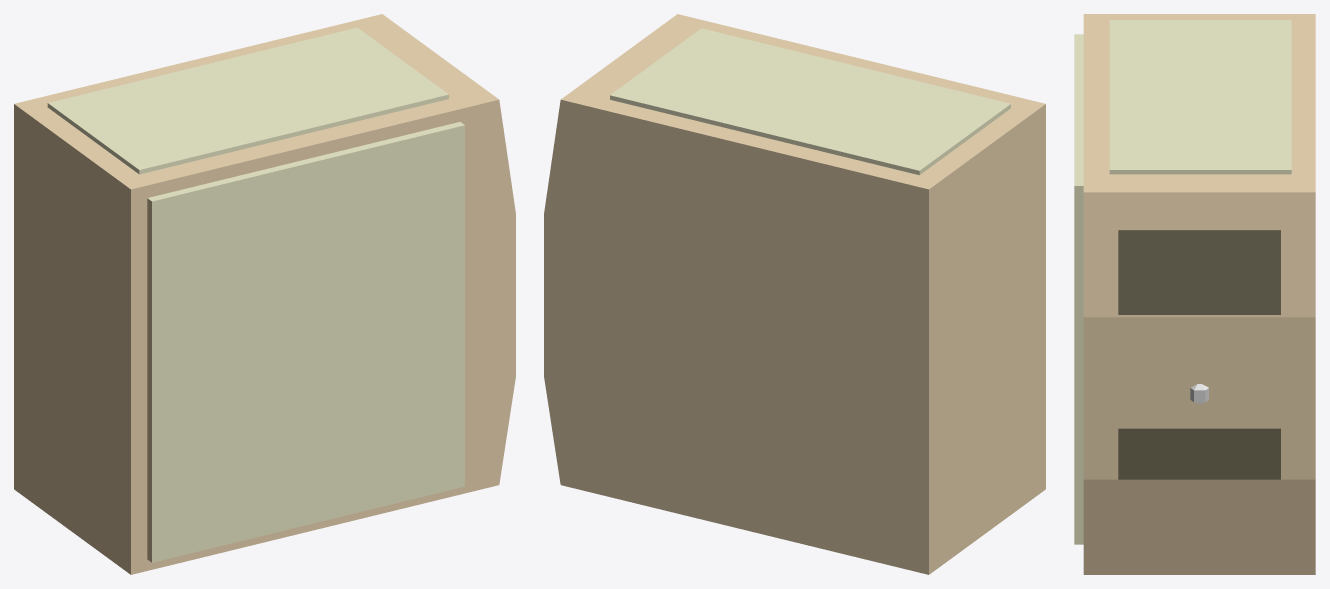
File: pcOld.fbx
3 renders of one model, left to right at view 1: azimuth 30°, elevation 25°; view 2: azimuth 150°, elevation 25°; view 3: azimuth 270°, elevation 25°, orthographic.
Parts seen in each view (by area): view 1: SidePanel, Main, TopSide; view 2: Main, TopSide; view 3: Front, Main, TopSide, Panel, Disk, SidePanel, Logo.
Boxes of the visible parts, x1,y1,x2,y2 form: SidePanel: [147, 122, 464, 562]; Main: [14, 14, 515, 574]; TopSide: [47, 27, 448, 174]; Main: [544, 14, 1045, 574]; TopSide: [610, 28, 1010, 175]; Front: [1083, 317, 1315, 574]; Main: [1083, 14, 1315, 317]; TopSide: [1109, 20, 1291, 174]; Panel: [1118, 230, 1280, 314]; Disk: [1118, 428, 1280, 479]; SidePanel: [1074, 34, 1083, 544]; Logo: [1190, 384, 1208, 403].
Size of the model in its own units: 212 by 202 by 114.
